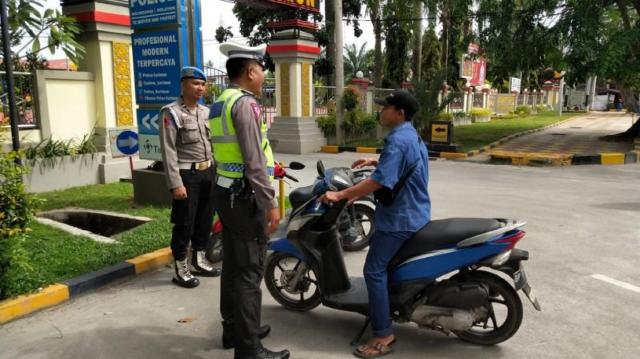motor: (267, 158, 545, 349)
non-helm: (372, 91, 422, 132)
